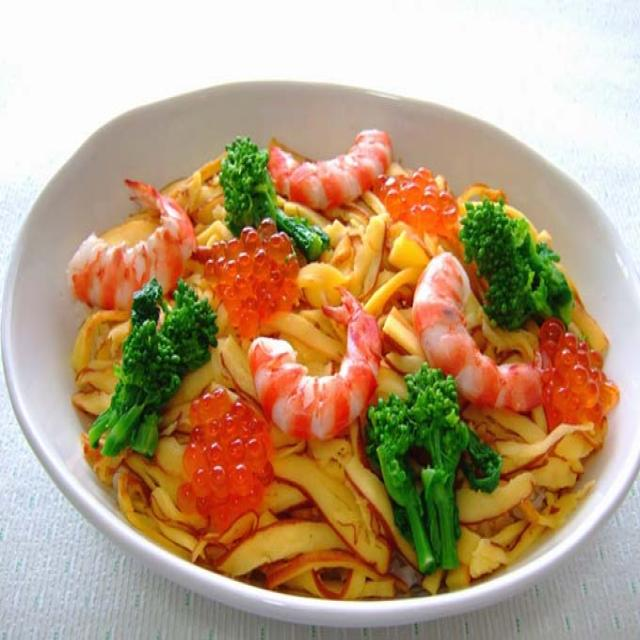寿司卷物: (0, 71, 640, 640)
